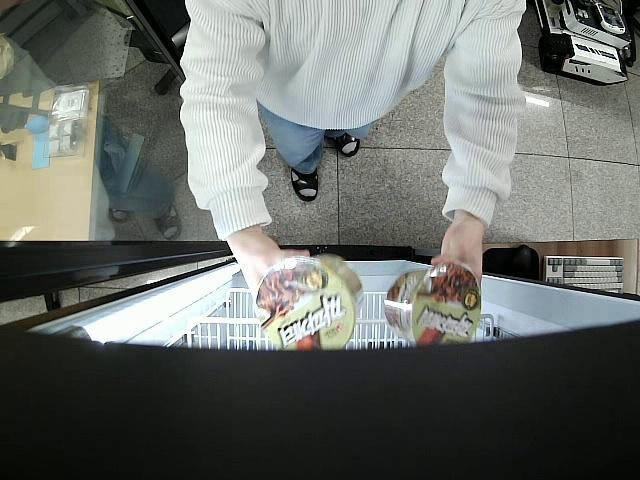03_chapagetti_L: (254, 255, 364, 348), (384, 263, 481, 343)
